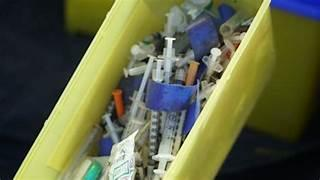Syringe: (122, 56, 154, 138), (153, 112, 177, 178), (147, 110, 159, 177)
